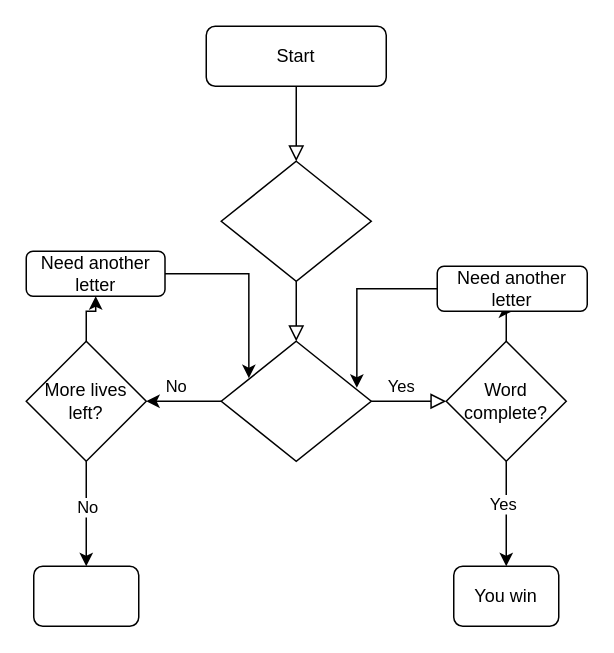
Some shapes in this 614 by 653 pixel diagram are drawn without their labels. The box of each missing label's shape, as (x1, y1, x2, y2) in pixels:
Generate random word: (220, 160, 371, 281)
Letter inputted in word?: (220, 340, 371, 461)
You Lose: (32, 565, 139, 626)
